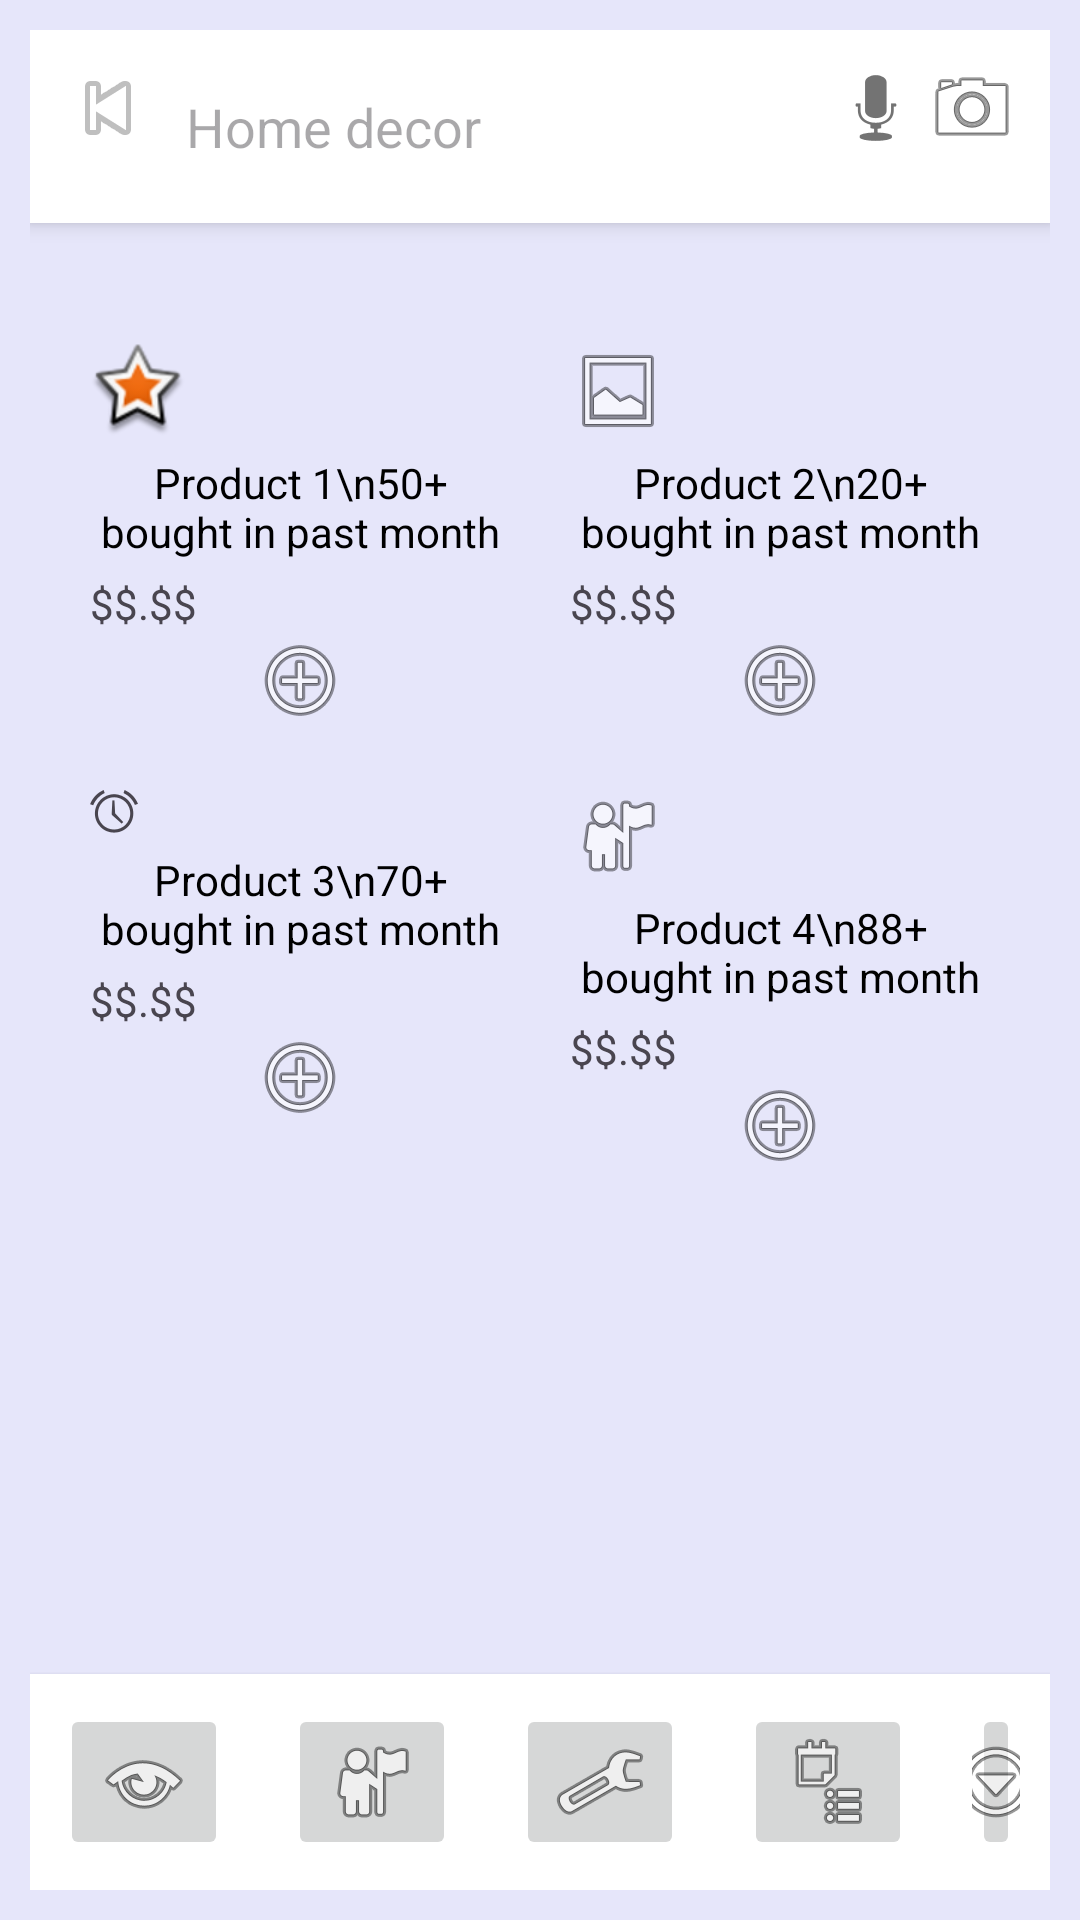

Where to tap for icons on this 1080 × 1920 app screen, as (x,y):
add: (300,680), (780,680), (300,1077), (780,1125)
gallery: (618,391)
lock idle alarm: (114,811)
myplaces: (619,836)
star on: (137,387)
Voice Search: (876,108)
